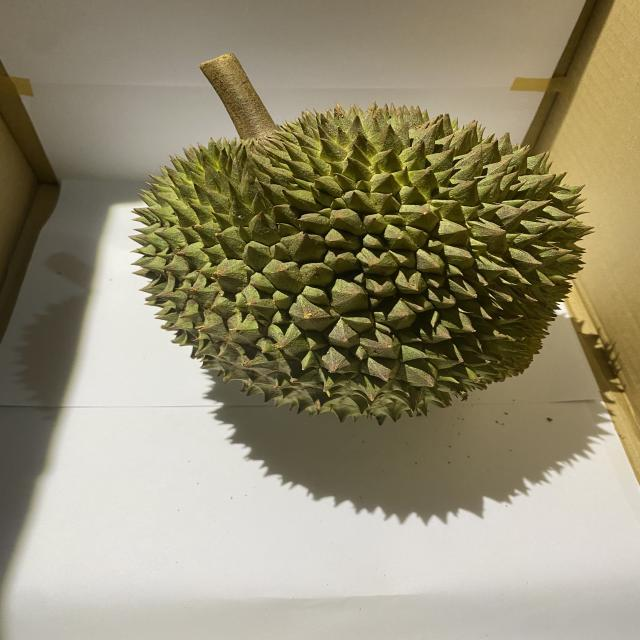immature: (127, 101, 601, 429)
